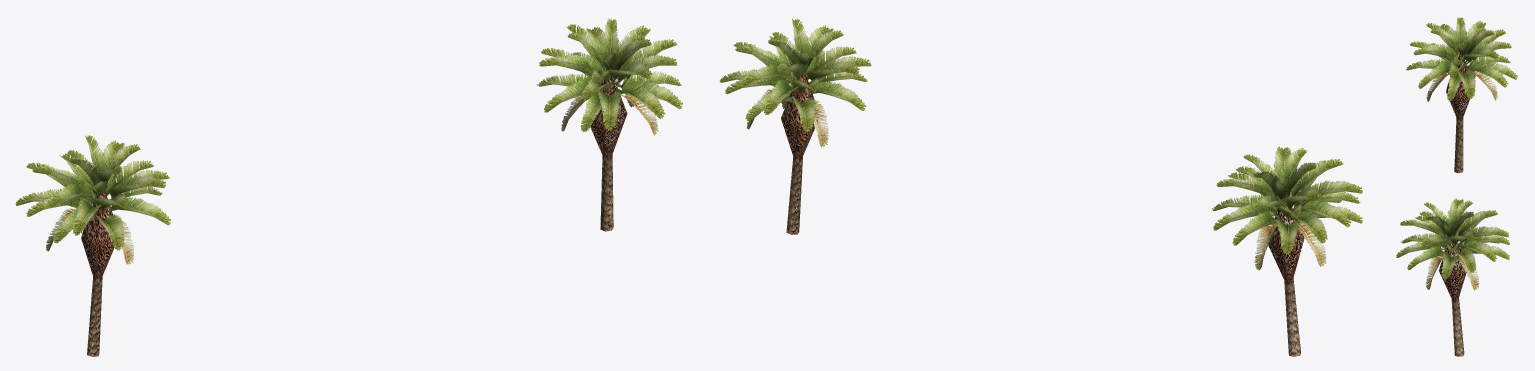
File: kart_civiccentre_palms.dae
3 renders of one model, left to right at view 1: azimuth 30°, elevation 25°; view 2: azimuth 150°, elevation 25°; view 3: azimuth 270°, elevation 25°, orthographic. The views are drawn at different scales.
Visible parts, largest first — view 1: palm; view 2: palm; view 3: palm.
Part boxes in pixels (bbox=[...]): palm: bbox=[15, 18, 682, 356]; palm: bbox=[720, 18, 1362, 356]; palm: bbox=[1396, 17, 1517, 356].
Size of the model in its own units: 33.67 by 7.81 by 10.27.
